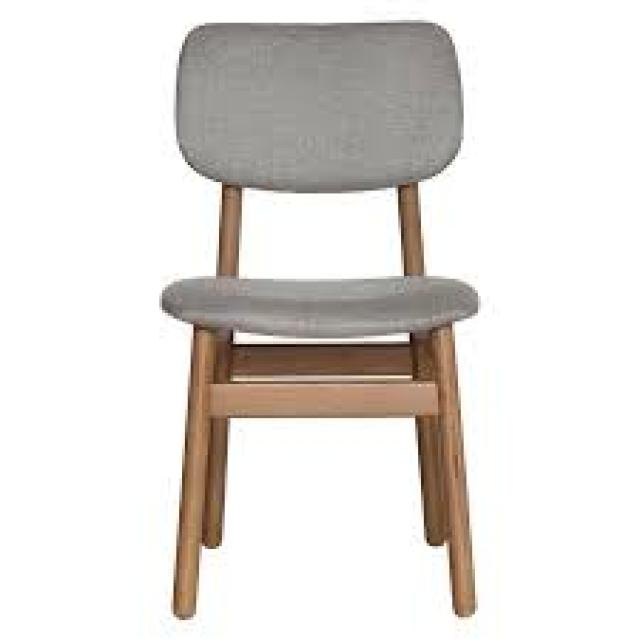chair: (133, 8, 532, 640)
